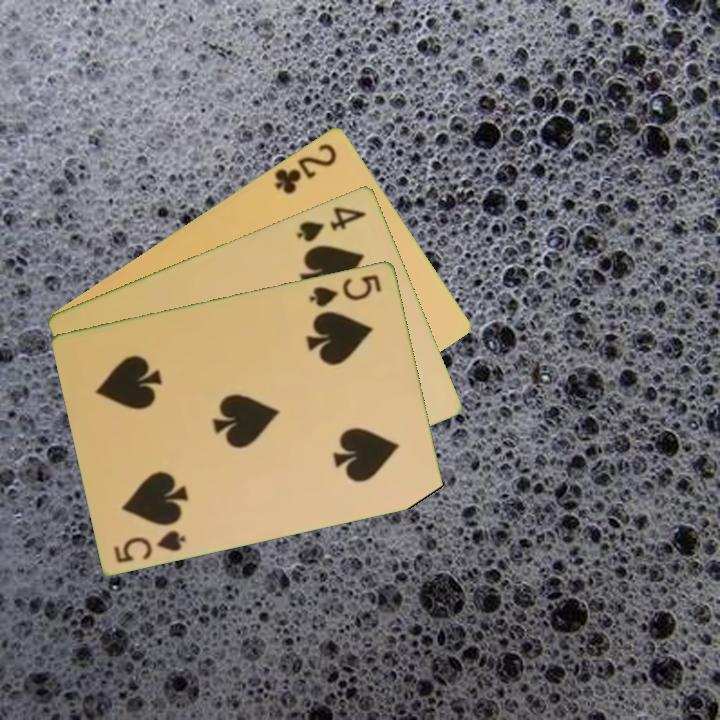2c: (271, 139, 340, 197)
4s: (293, 202, 370, 245)
5s: (306, 270, 385, 310), (110, 526, 189, 566)
